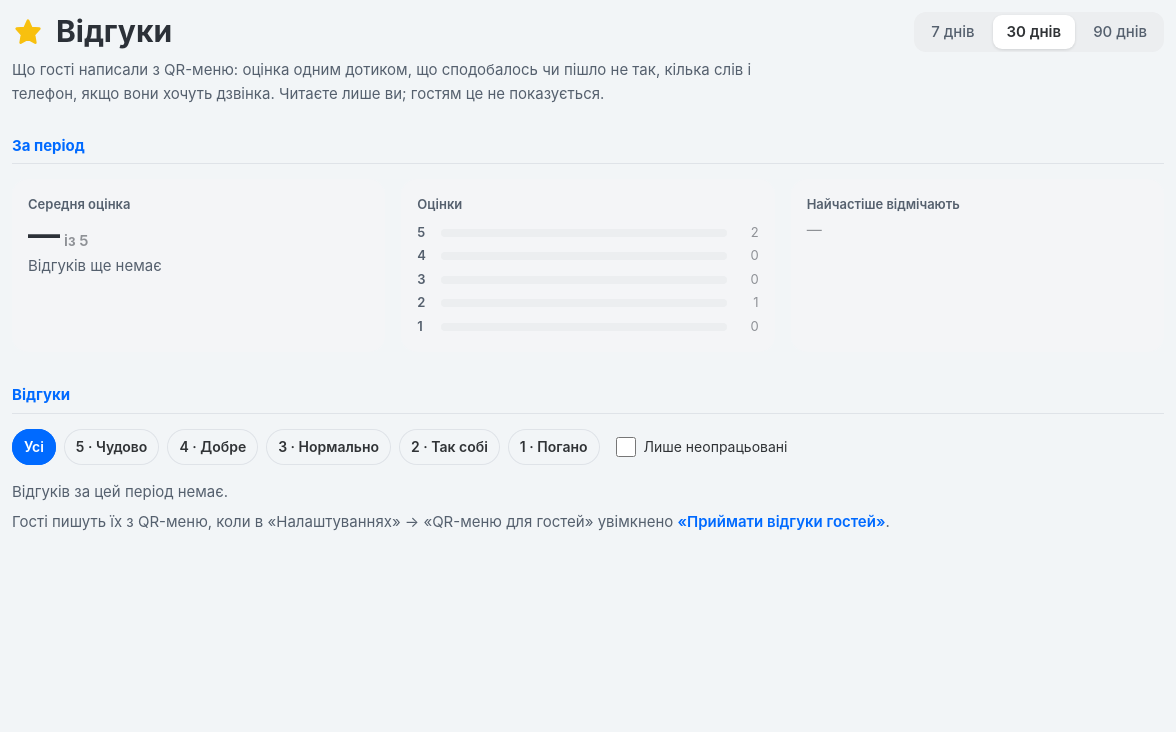
ReviewsPage › says how to switch feedback on when there is none, and nothing of the kind when a filter emptied the list
Expected: the element with test id "reviews-empty" shows "Приймати відгуки гостей", top-left (678, 512), bottom-right (885, 531)
Click the button "1 · Погано": (554, 447) top-left (508, 429), bottom-right (600, 465)
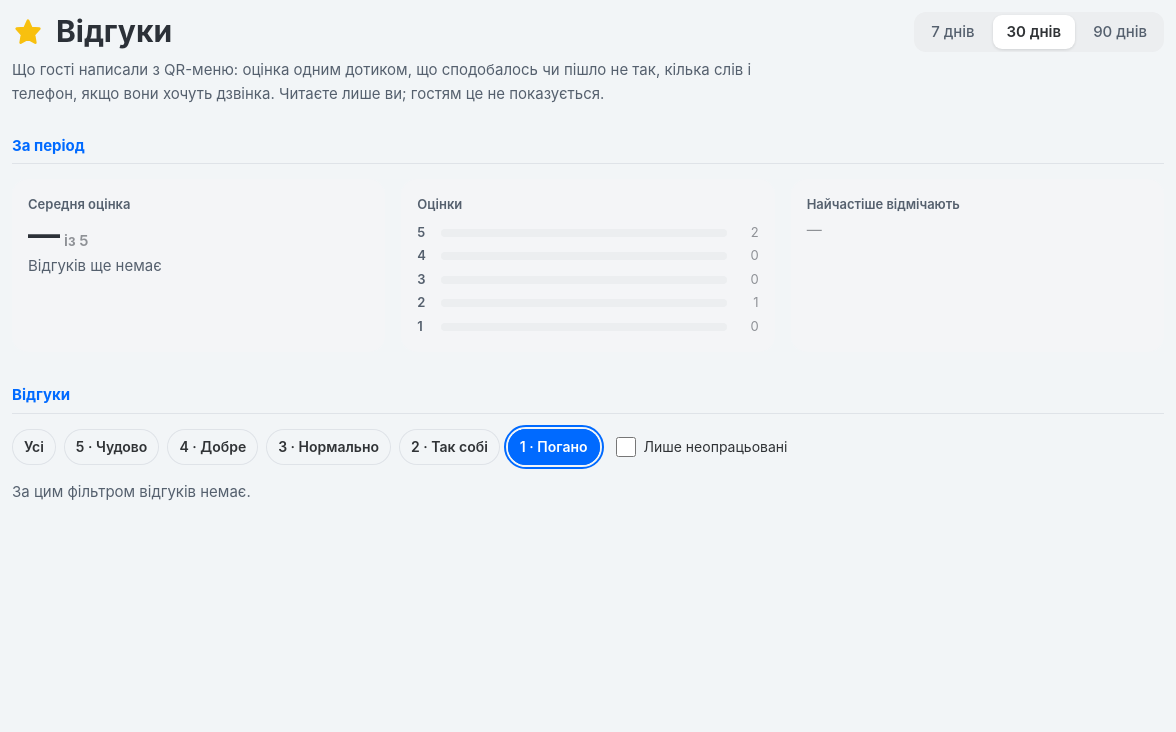
Result: the text "За цим фільтром відгуків немає." is shown at top-left (12, 482), bottom-right (251, 501)
